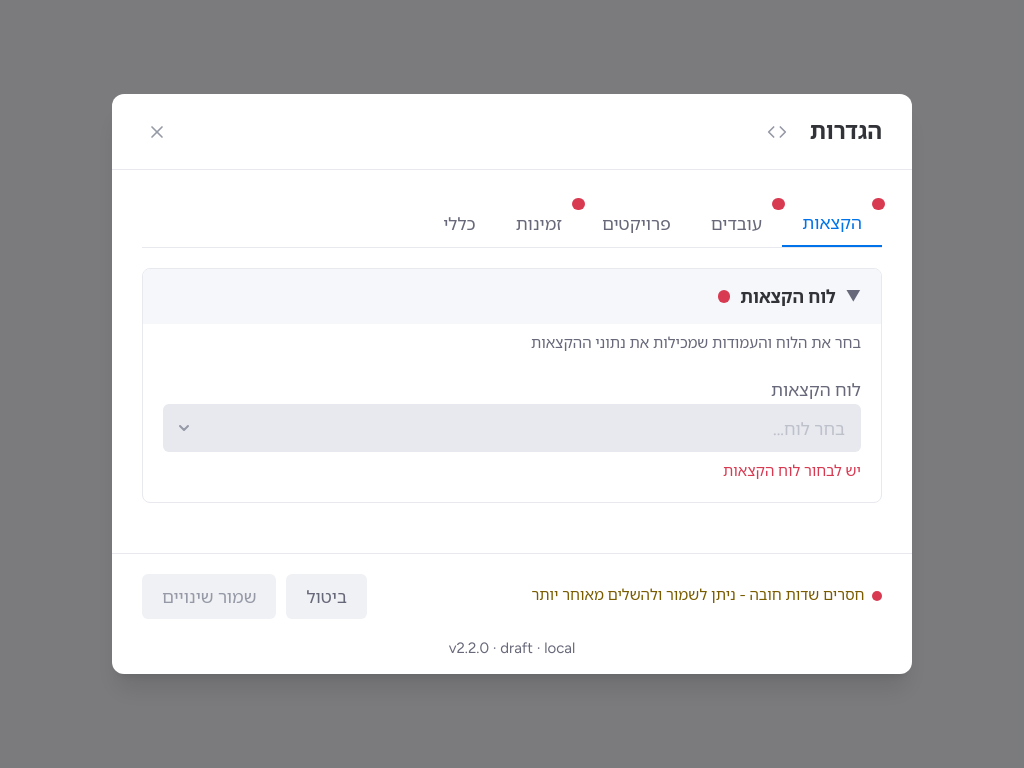
Scenario: SettingsDialog — Day-off availability tab (W3.6) › renders every mapping picker for a mapped board; the approval COLUMN is offered even while the D2 toggle is OFF (DEV-2), approved/rejected labels need a column
The width and height of the screenshot is (1024, 768).
Click the button "זמינות": (539, 224) left=496, top=200, right=582, bottom=247
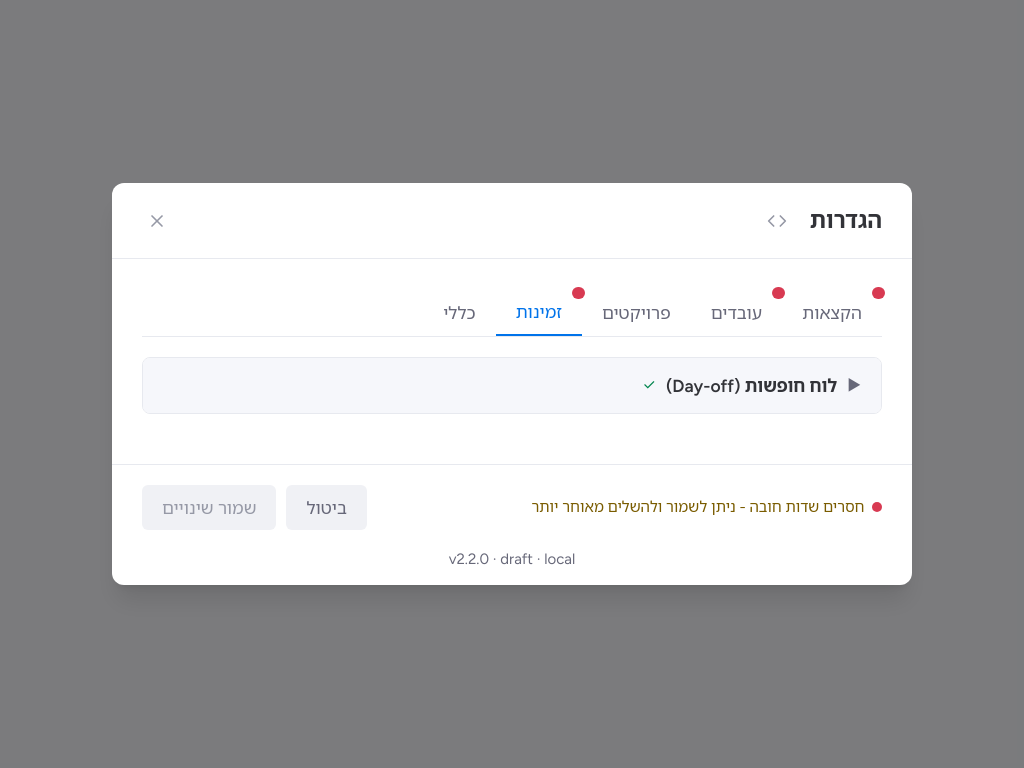
Click the heading "לוח חופשות (Day-off)": (752, 386) left=666, top=373, right=837, bottom=398
(page scrolled)
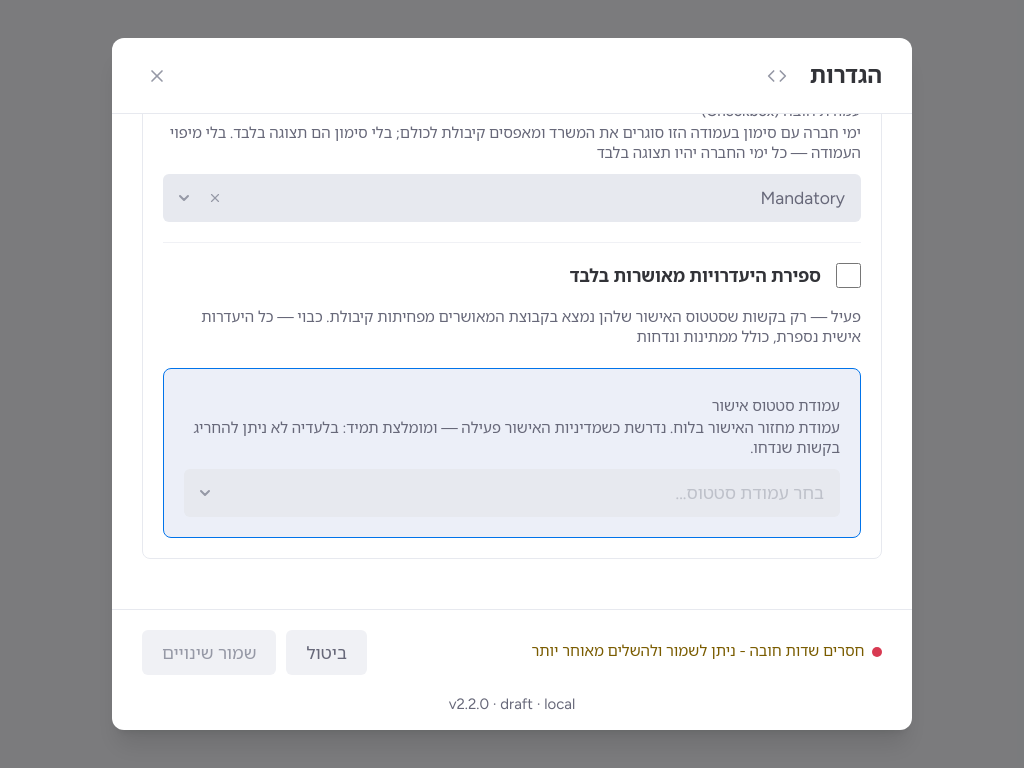
Result: the checkbox labelled "ספירת היעדרויות מאושרות בלבד" is not checked at left=836, top=263, right=861, bottom=288
Result: the text "עמודת סטטוס אישור" is shown at left=712, top=397, right=840, bottom=415
